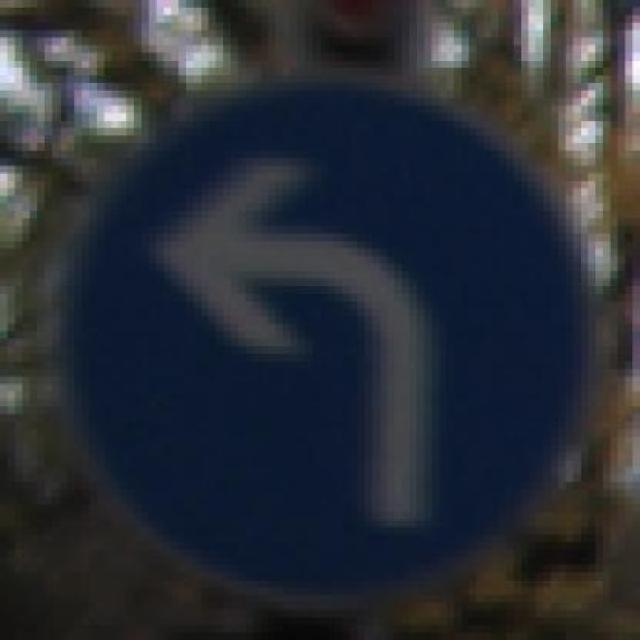Turn left ahead: (52, 75, 596, 602)
